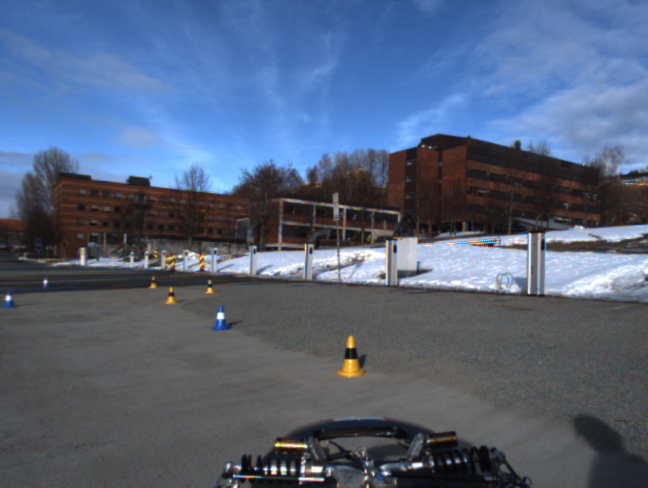cone-small-blue: (212, 305, 230, 331), (2, 288, 16, 308), (41, 276, 49, 288)
cone-small-yellow: (335, 334, 368, 378), (165, 286, 177, 305), (205, 279, 215, 294), (149, 276, 158, 289)
